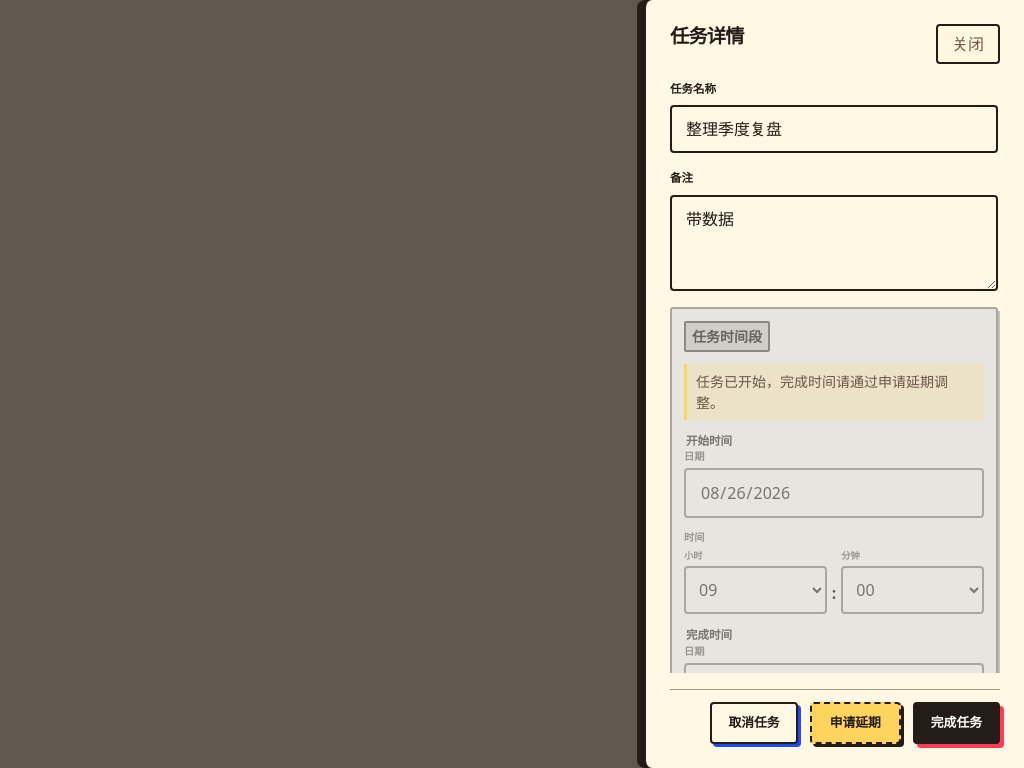
Test case: TaskDrawer › keeps edited input when autosave fails
Replace the text in the field labelled "任务名称" with "不能丢的修改". click: (834, 129)
box: [670,105,998,153]
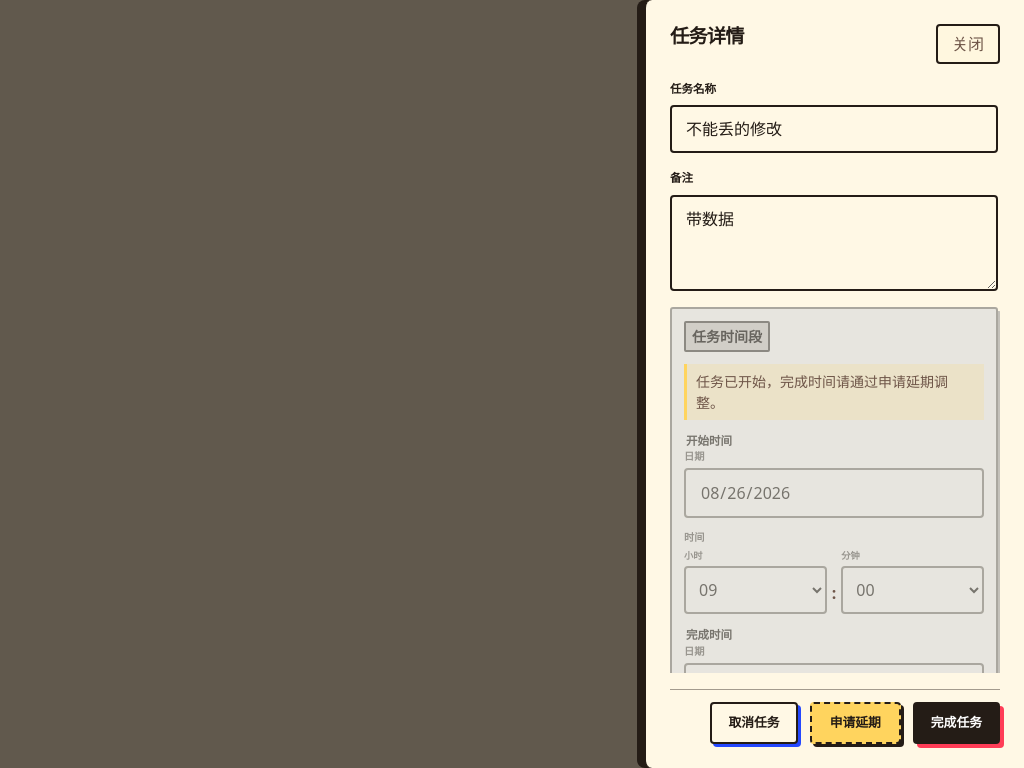
Leave the field labelled "任务名称", box [670,105,998,153]
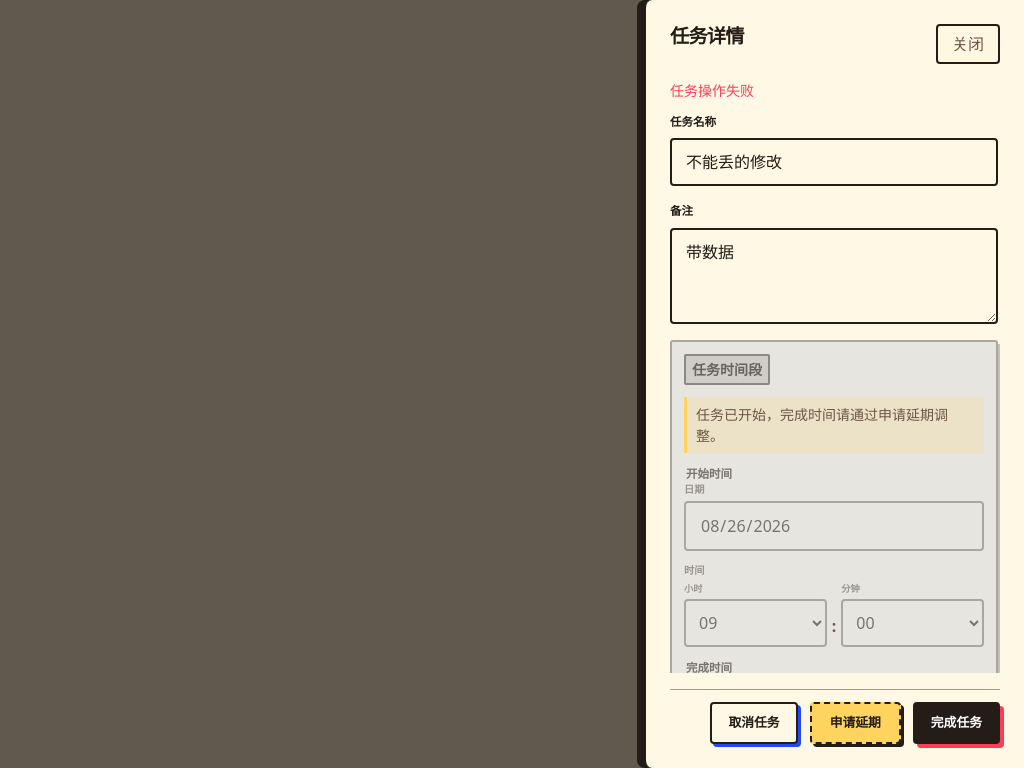
Check: the message reads "任务操作失败", box [670,81,754,100]
